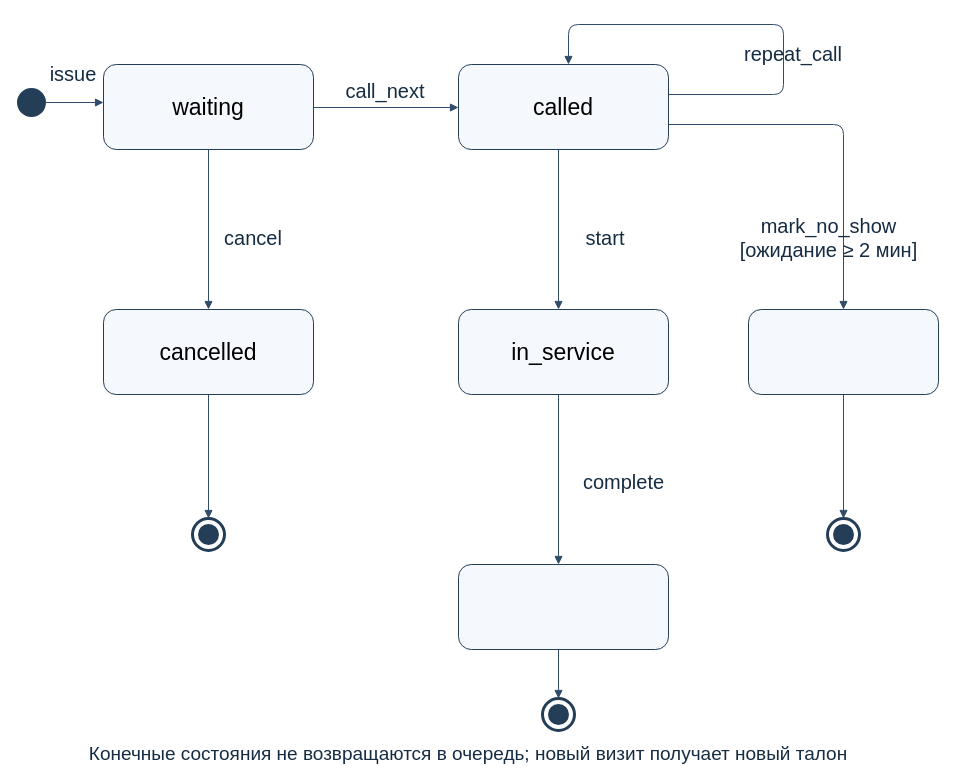
This 958x784 diagram has some shape labels left out. Here are the shapes that lost their labels. From the top down, the centre of each, then its label:
the point at 843,351: no_show
the point at 563,607: completed
